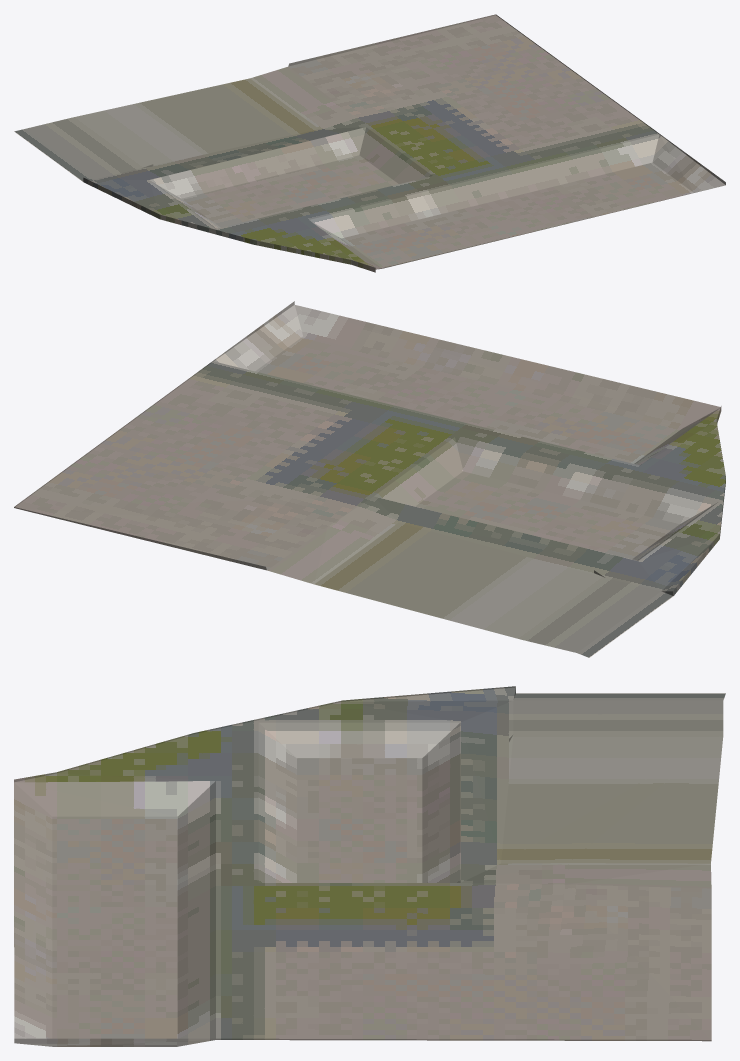
Rendered from lodgaz2_law.obj.
3 views of the same model, one above another, from view 1: azimuth 30°, elevation 25°; view 2: azimuth 150°, elevation 25°; view 3: azimuth 270°, elevation 25° (orthographic). The views are drawn at different scales.
Visible parts, largest first — view 1: LODgaz2_law; view 2: LODgaz2_law; view 3: LODgaz2_law.
Boxes of the visible parts, left/top/right/bottom form: LODgaz2_law: left=14, top=14, right=725, bottom=272; LODgaz2_law: left=14, top=301, right=725, bottom=657; LODgaz2_law: left=14, top=686, right=725, bottom=1046.
Bounding box in the file's own units: 124 × 3.88 × 106.
Materials: 1 (1 with a texture image).
